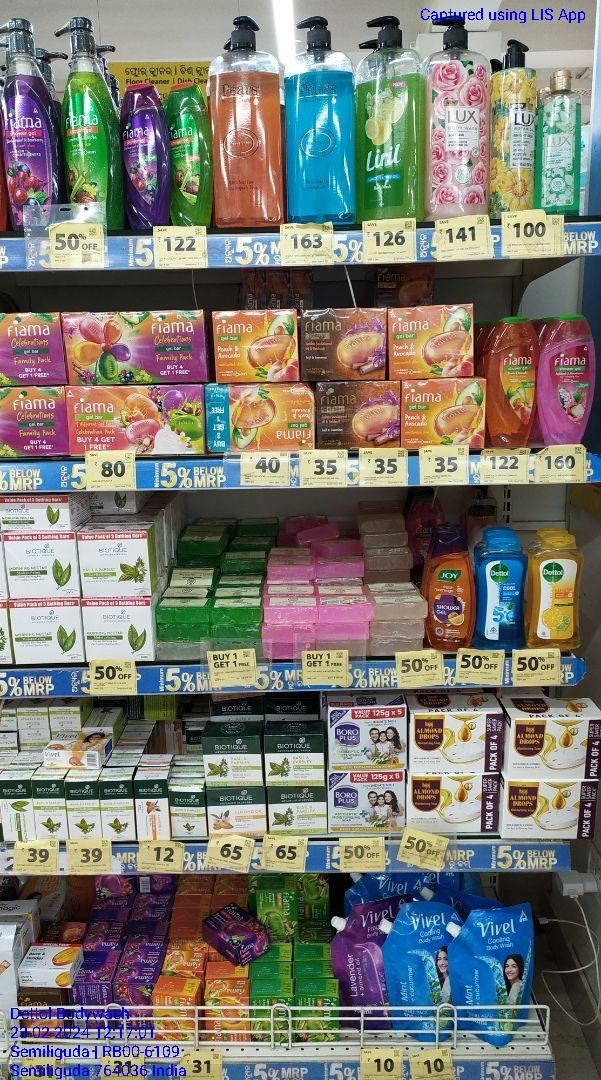Dettol_Bodywash_Cool: (478, 539, 525, 651)
Dettol_Bodywash_Refresh: (525, 535, 583, 649)
Fiama_Shower_Gel_Lemongrass_and_Jojoba_250ML: (165, 89, 213, 225)
Fiama_Shower_Gel_Patchouli_and_Macadamia_250ML: (541, 319, 595, 443)
Fiama_Shower_Gel_Peach_and_Avocado_250ML: (485, 319, 535, 446)
Joy_Shower_Gel_Mandarin_and_Lemongrass_250ML: (427, 537, 474, 647)
Lux_Body_Wash_Skin_Detox_Freesia_Scent_and_Alove_Vera_245ML: (538, 73, 582, 214)
